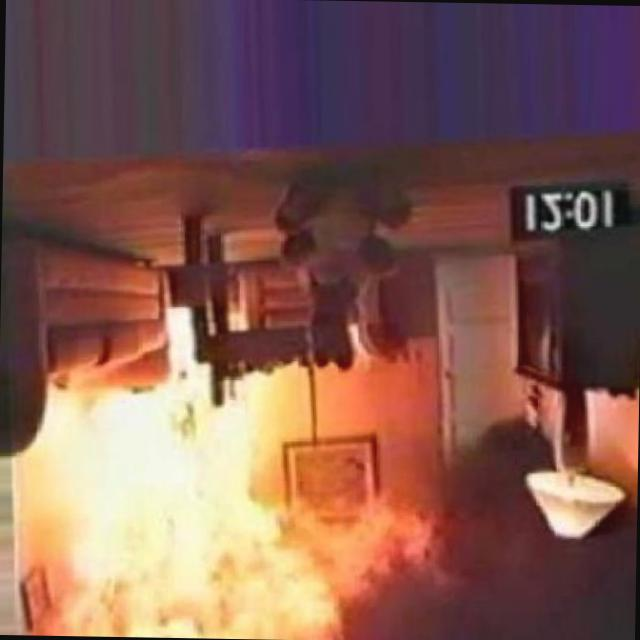fire: (0, 288, 379, 637)
